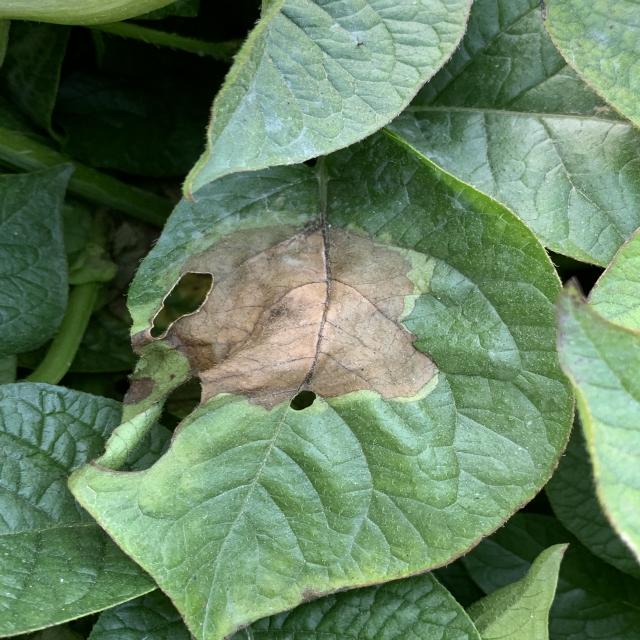lateblight: (168, 228, 437, 406)
